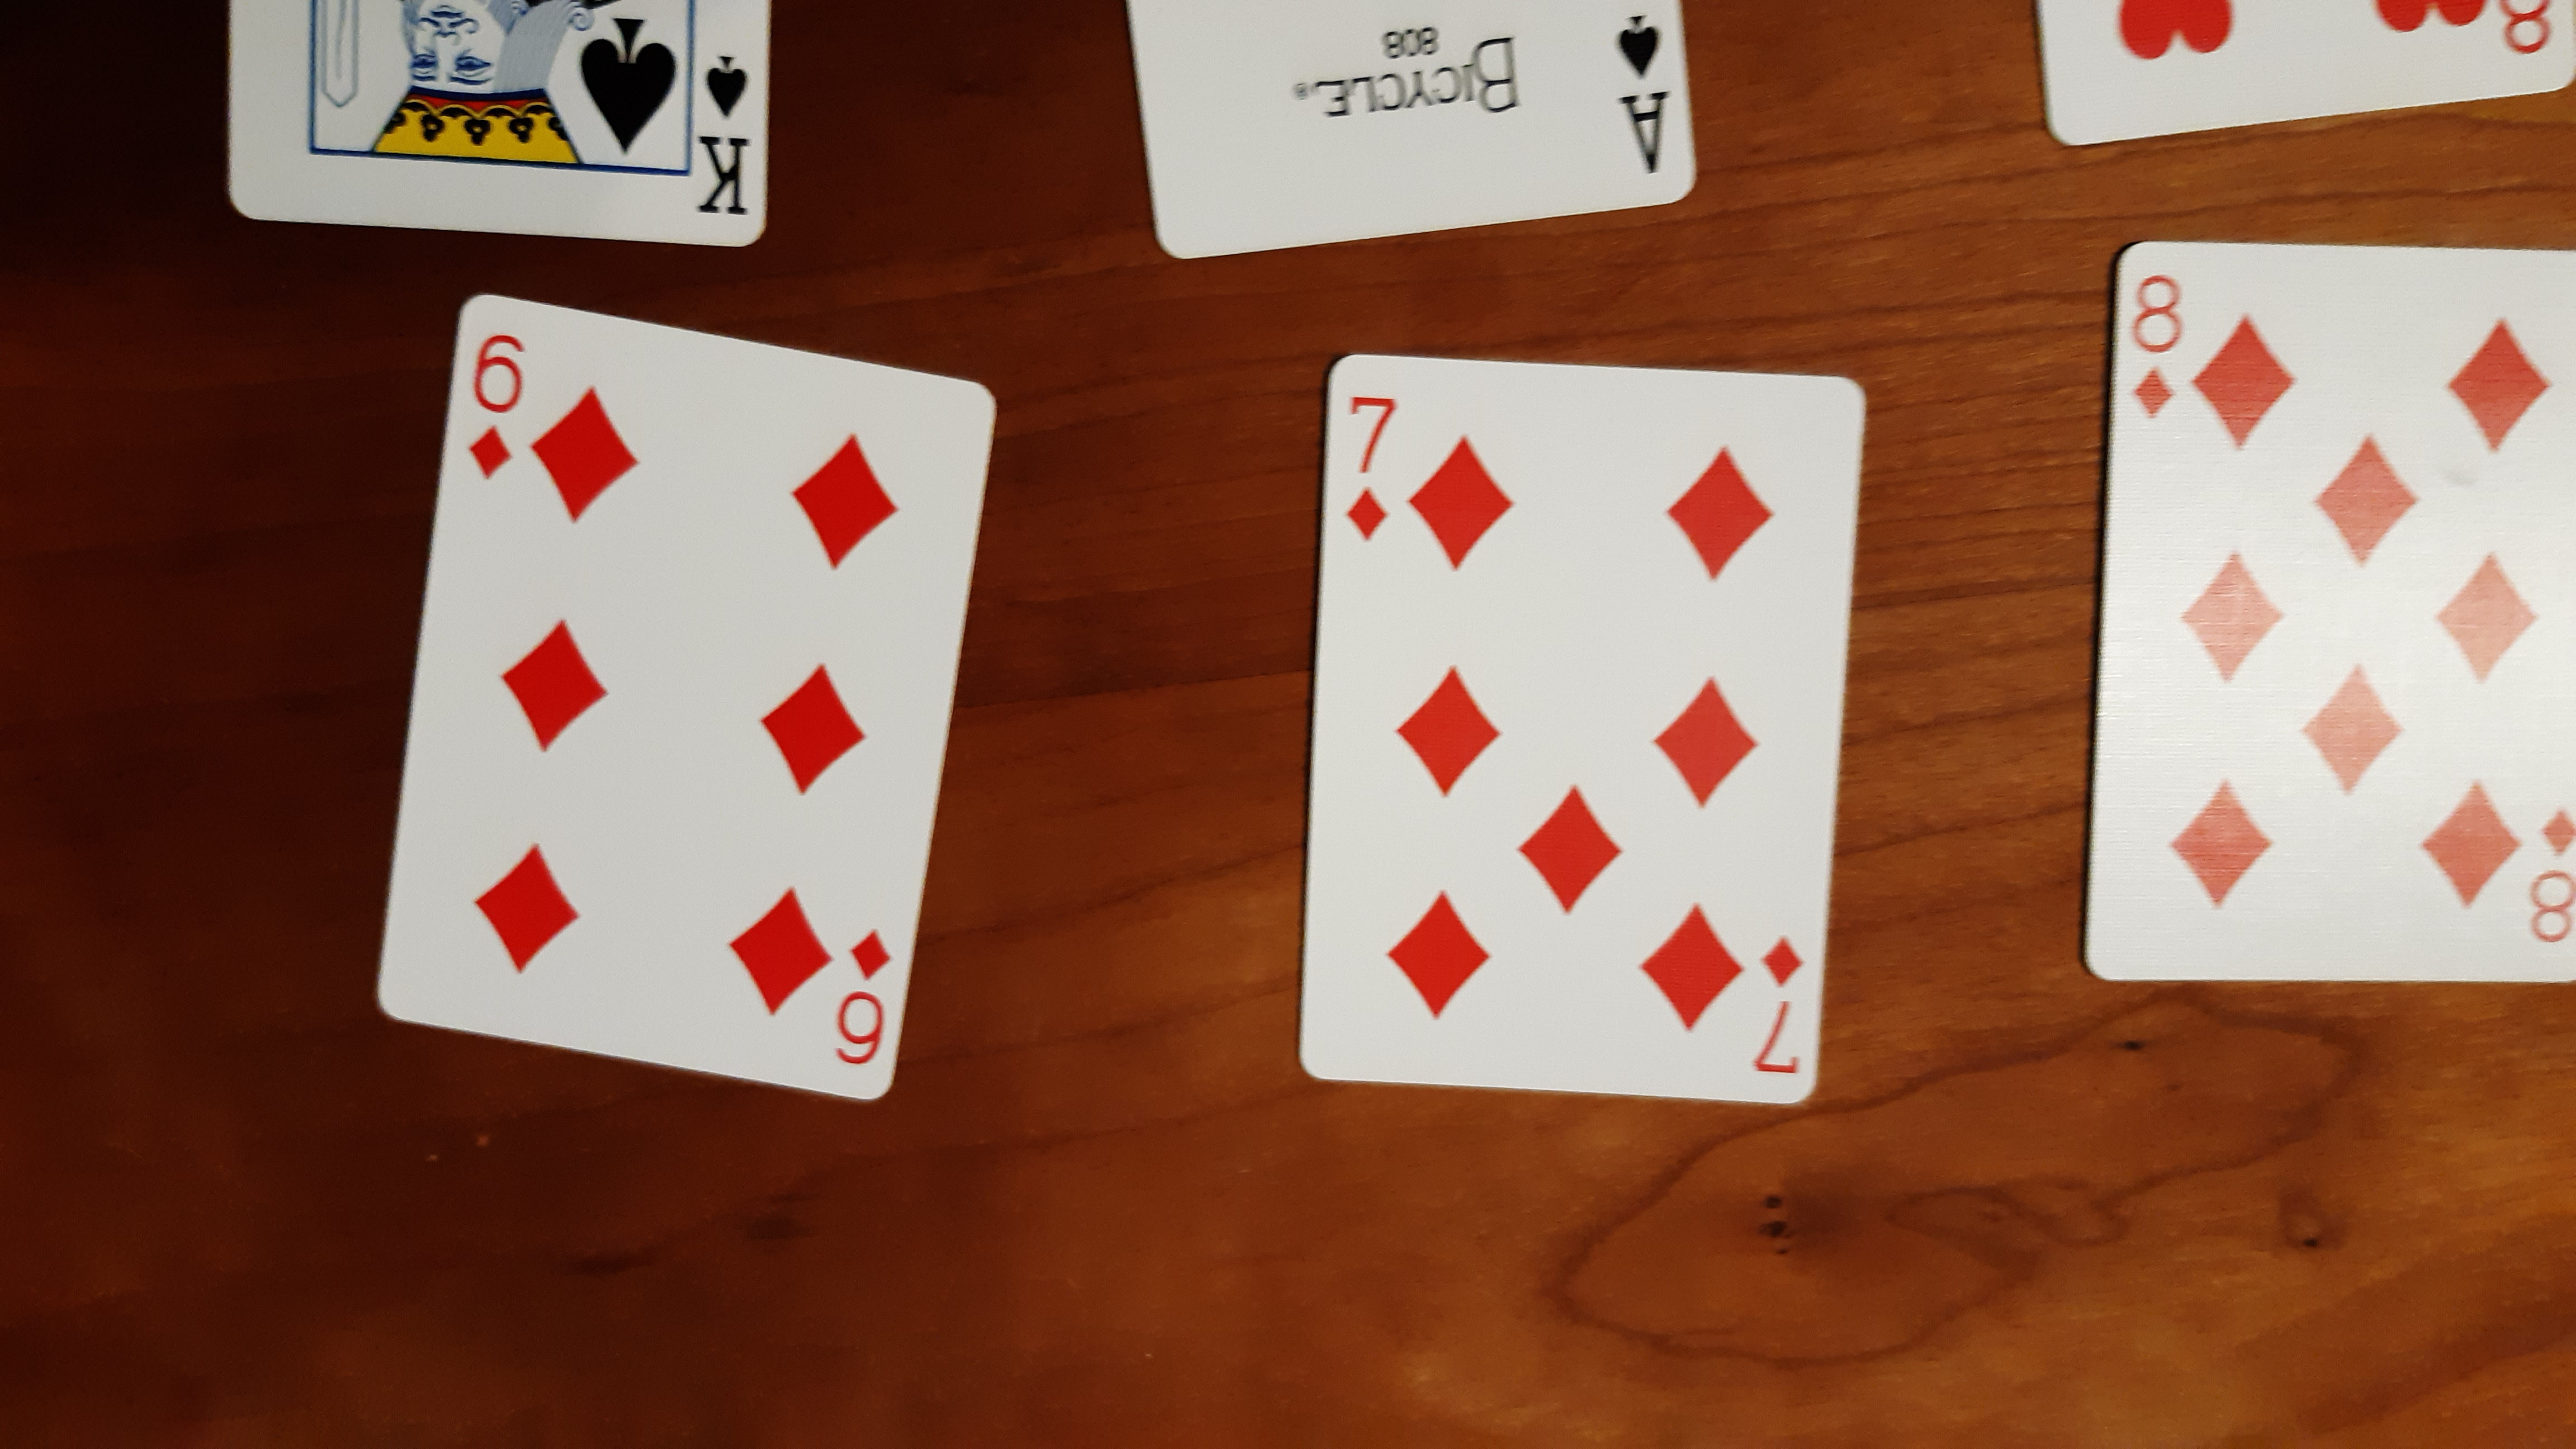Black_Spade_Ace: (1608, 12, 1683, 177)
Black_Spade_King: (681, 42, 770, 226)
Red_Diamond_6: (460, 313, 909, 1072)
Red_Diamond_7: (1334, 384, 1405, 547), (1750, 925, 1808, 1092)
Red_Diamond_8: (2128, 267, 2185, 425), (2523, 796, 2572, 959)
Red_Heart_8: (2107, 2, 2567, 64)
